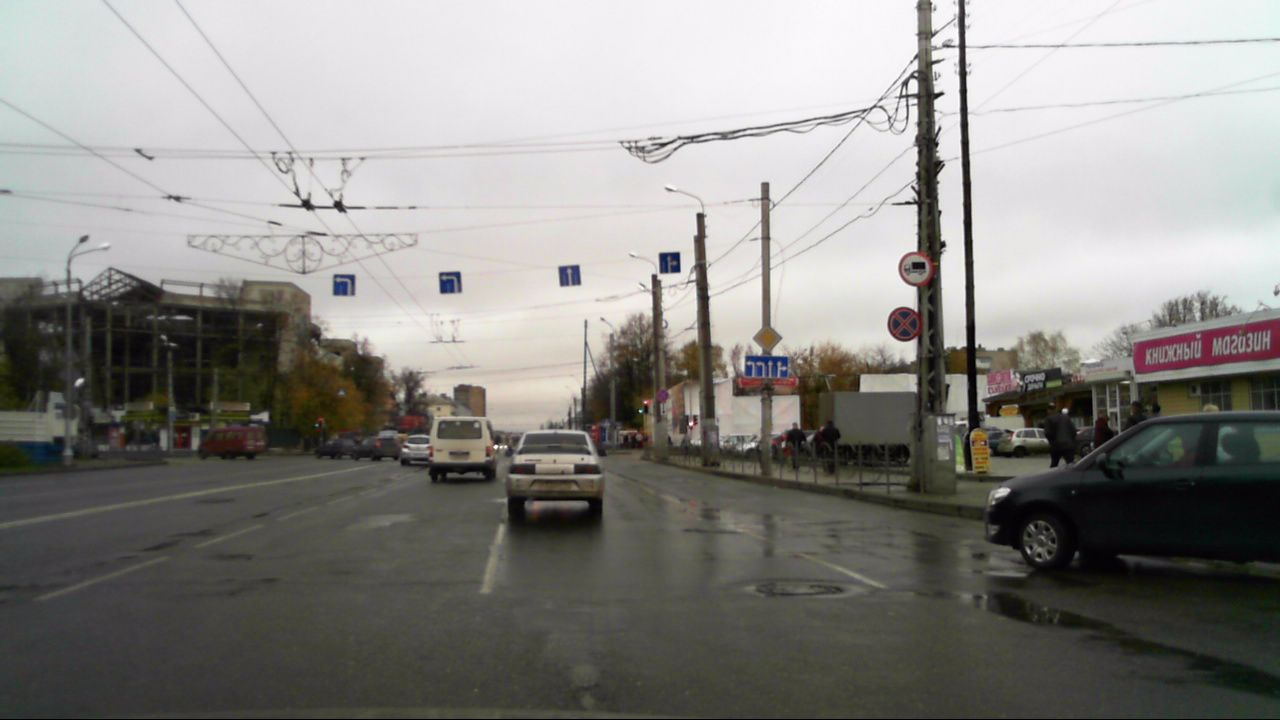No Parking: (887, 307, 921, 342)
